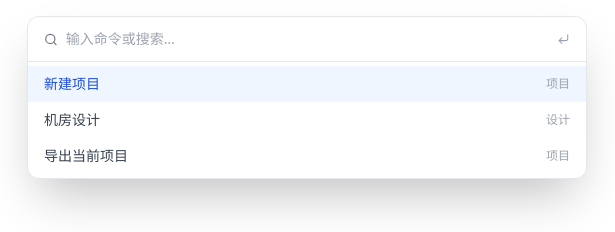
Test: CommandPalette 组件（A-1） › 无匹配时显示空态
In the field with placeholder "输入命令或搜索…": (307, 39) [66, 29, 549, 49], type "zzz"
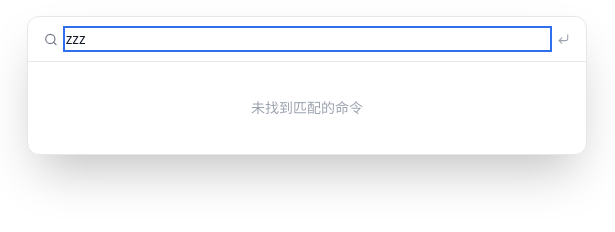
Now the text "未找到匹配的命令" is shown, box [251, 98, 363, 117]
